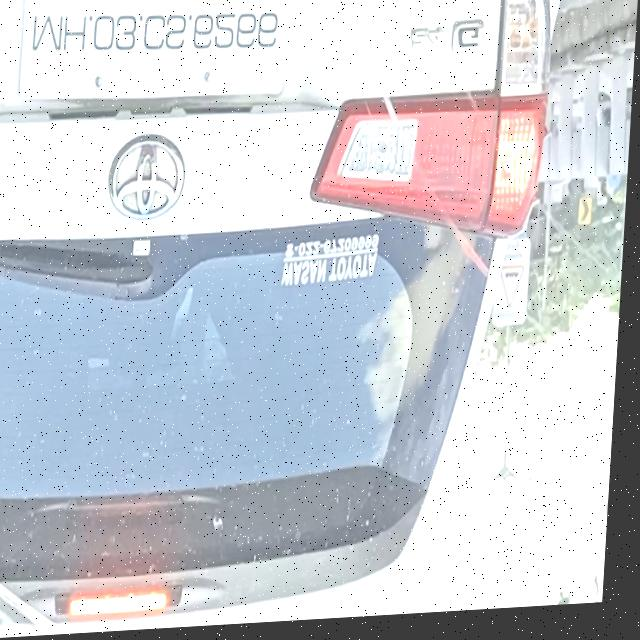plate: (15, 0, 298, 118)
